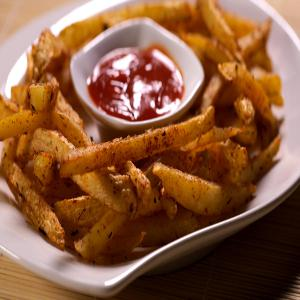fries: (12, 20, 283, 245)
